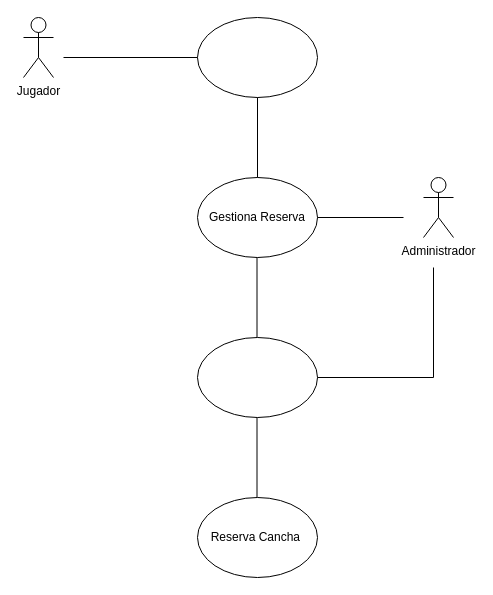
This 493x595 diagram has some shape labels left out. Each missing label, with the centre of its shape:
"Ingresa al Sist." goes at (257,57).
"Procesa Pago" goes at (257,377).
